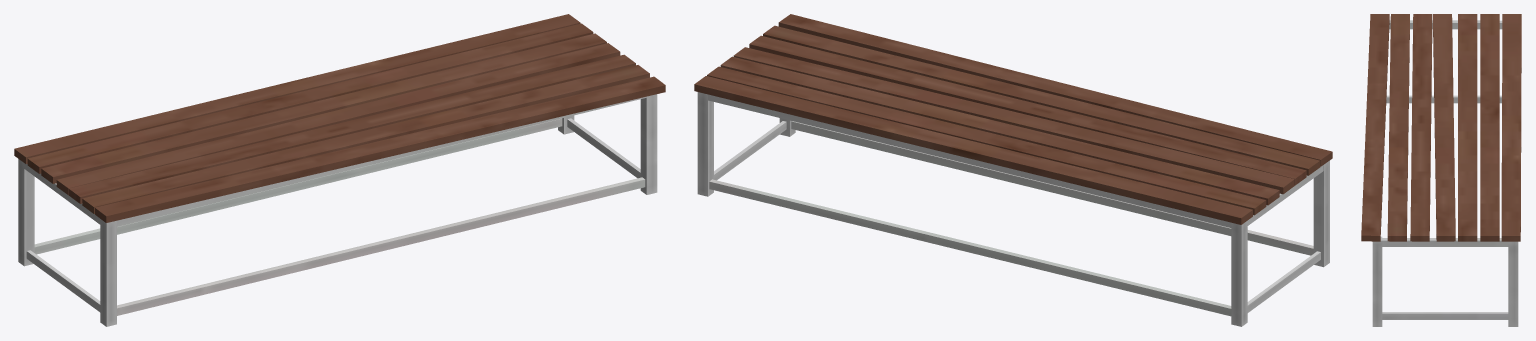
The model's file is changing-bench.lod1.glb.
3 renders of one model, left to right at view 1: azimuth 30°, elevation 25°; view 2: azimuth 150°, elevation 25°; view 3: azimuth 270°, elevation 25°, orthographic. The views are drawn at different scales.
Visible parts, largest first — view 1: defaultMaterial; view 2: defaultMaterial; view 3: defaultMaterial.
Part boxes in pixels (bbox=[...]): defaultMaterial: bbox=[14, 14, 665, 326]; defaultMaterial: bbox=[694, 14, 1332, 326]; defaultMaterial: bbox=[1361, 14, 1521, 326].
Bounding box in the file's own units: 2.19 × 0.4227 × 0.6689.
Materials: 1 (1 with a texture image).
